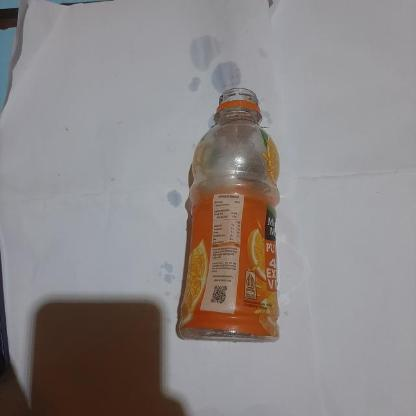Plastic Bottle: (172, 68, 294, 374)
